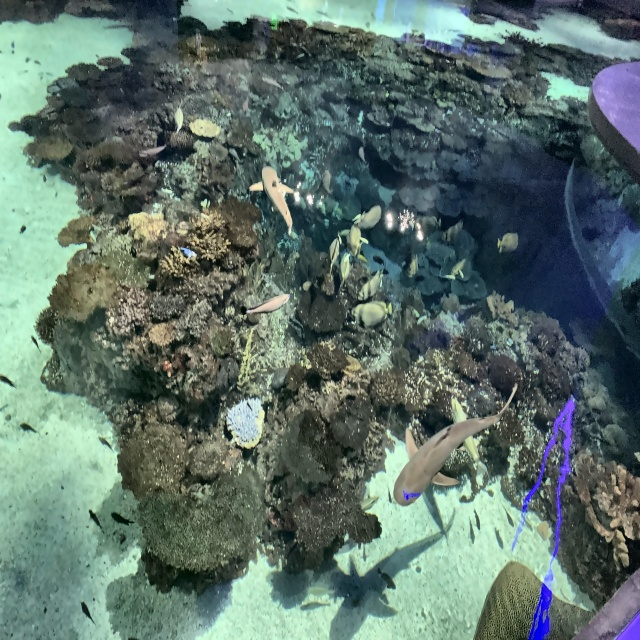fish: (350, 299, 393, 330), (244, 292, 293, 319), (357, 267, 385, 301), (353, 204, 382, 232), (346, 221, 368, 257), (327, 233, 342, 276), (496, 231, 521, 256), (338, 250, 354, 288), (172, 104, 187, 135), (404, 254, 420, 280), (320, 168, 334, 196), (357, 146, 366, 162), (411, 305, 420, 319), (441, 272, 456, 280), (458, 266, 465, 279)
shark: (390, 379, 522, 512), (249, 163, 298, 238)
